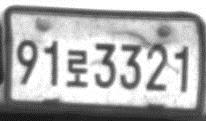1: (43, 39, 60, 88), (173, 45, 190, 93)
2: (146, 43, 167, 92)
3: (93, 42, 116, 89), (120, 43, 142, 89)
9: (15, 38, 39, 84)
로: (67, 48, 88, 89)
